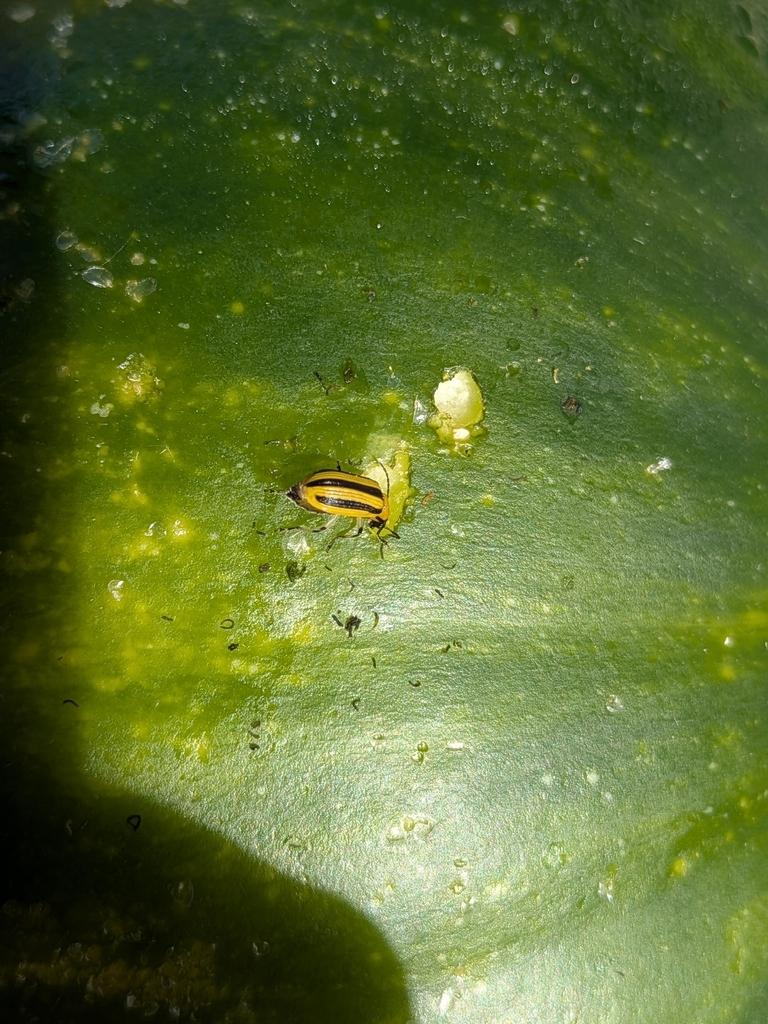potato_beetle: (253, 430, 433, 569)
